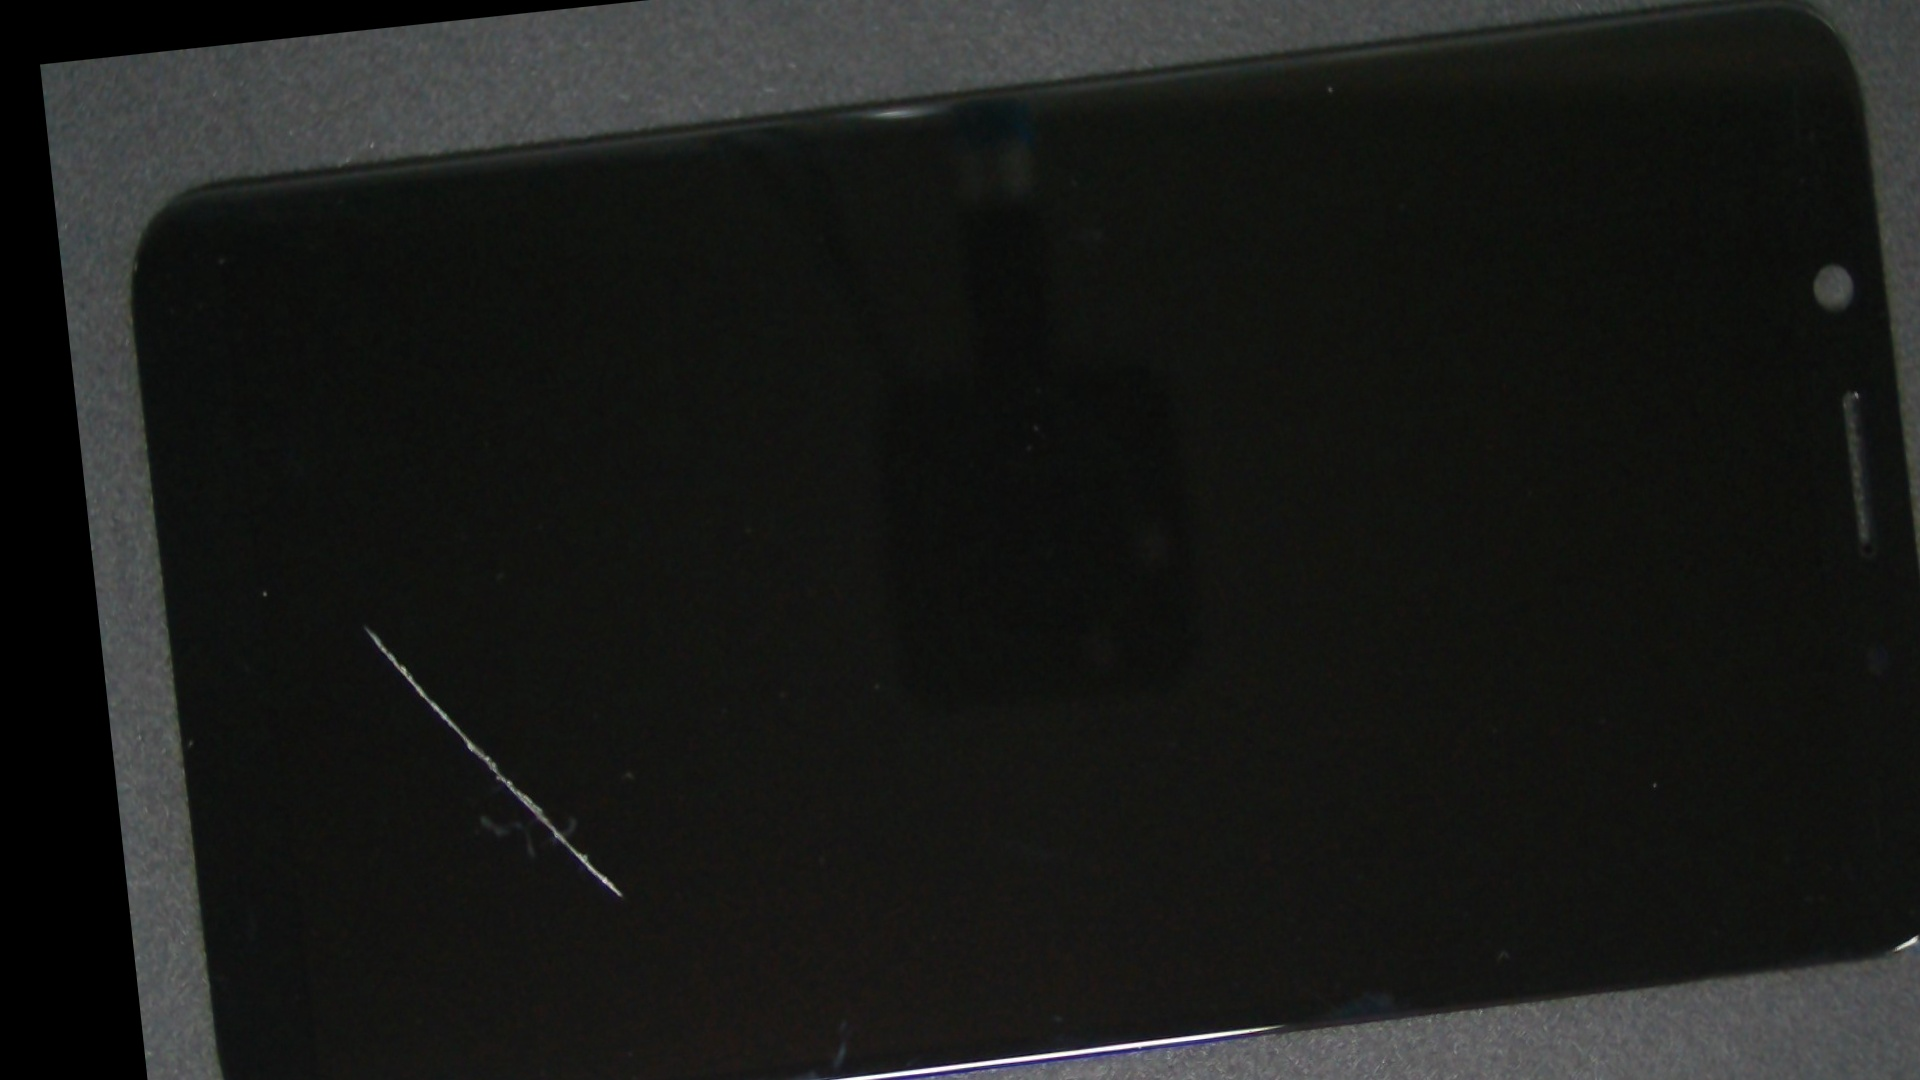oil: (203, 316, 525, 932)
